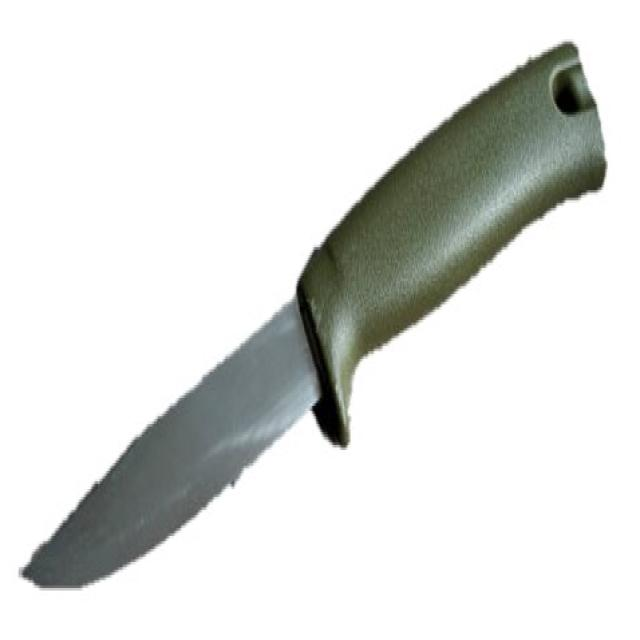knife: (15, 37, 613, 605)
